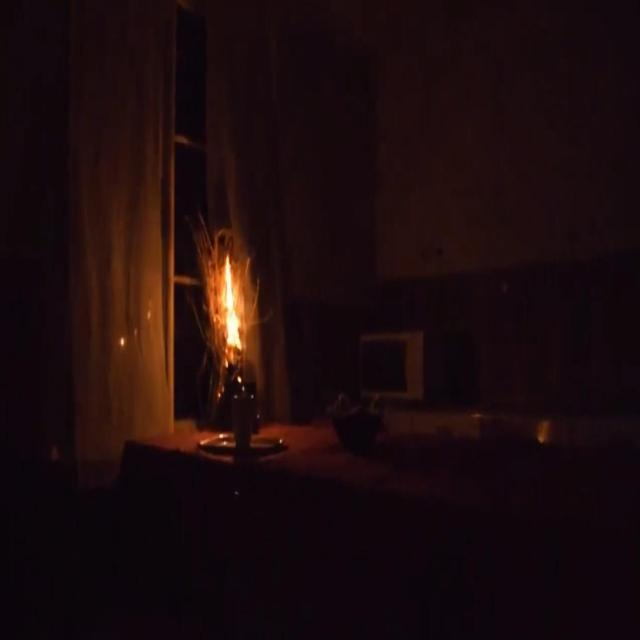smoke: (216, 248, 251, 358)
